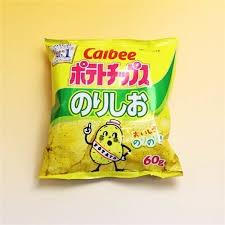snack: (38, 37, 185, 180)
